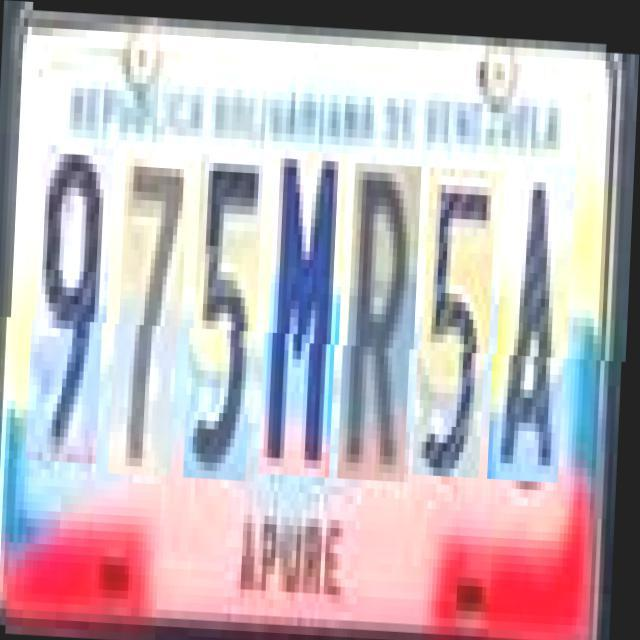5: (192, 151, 266, 478), (420, 162, 498, 472)
7: (116, 148, 190, 474)
9: (34, 144, 116, 462)
A: (496, 157, 578, 476)
M: (266, 146, 348, 474)
R: (346, 158, 424, 477)
